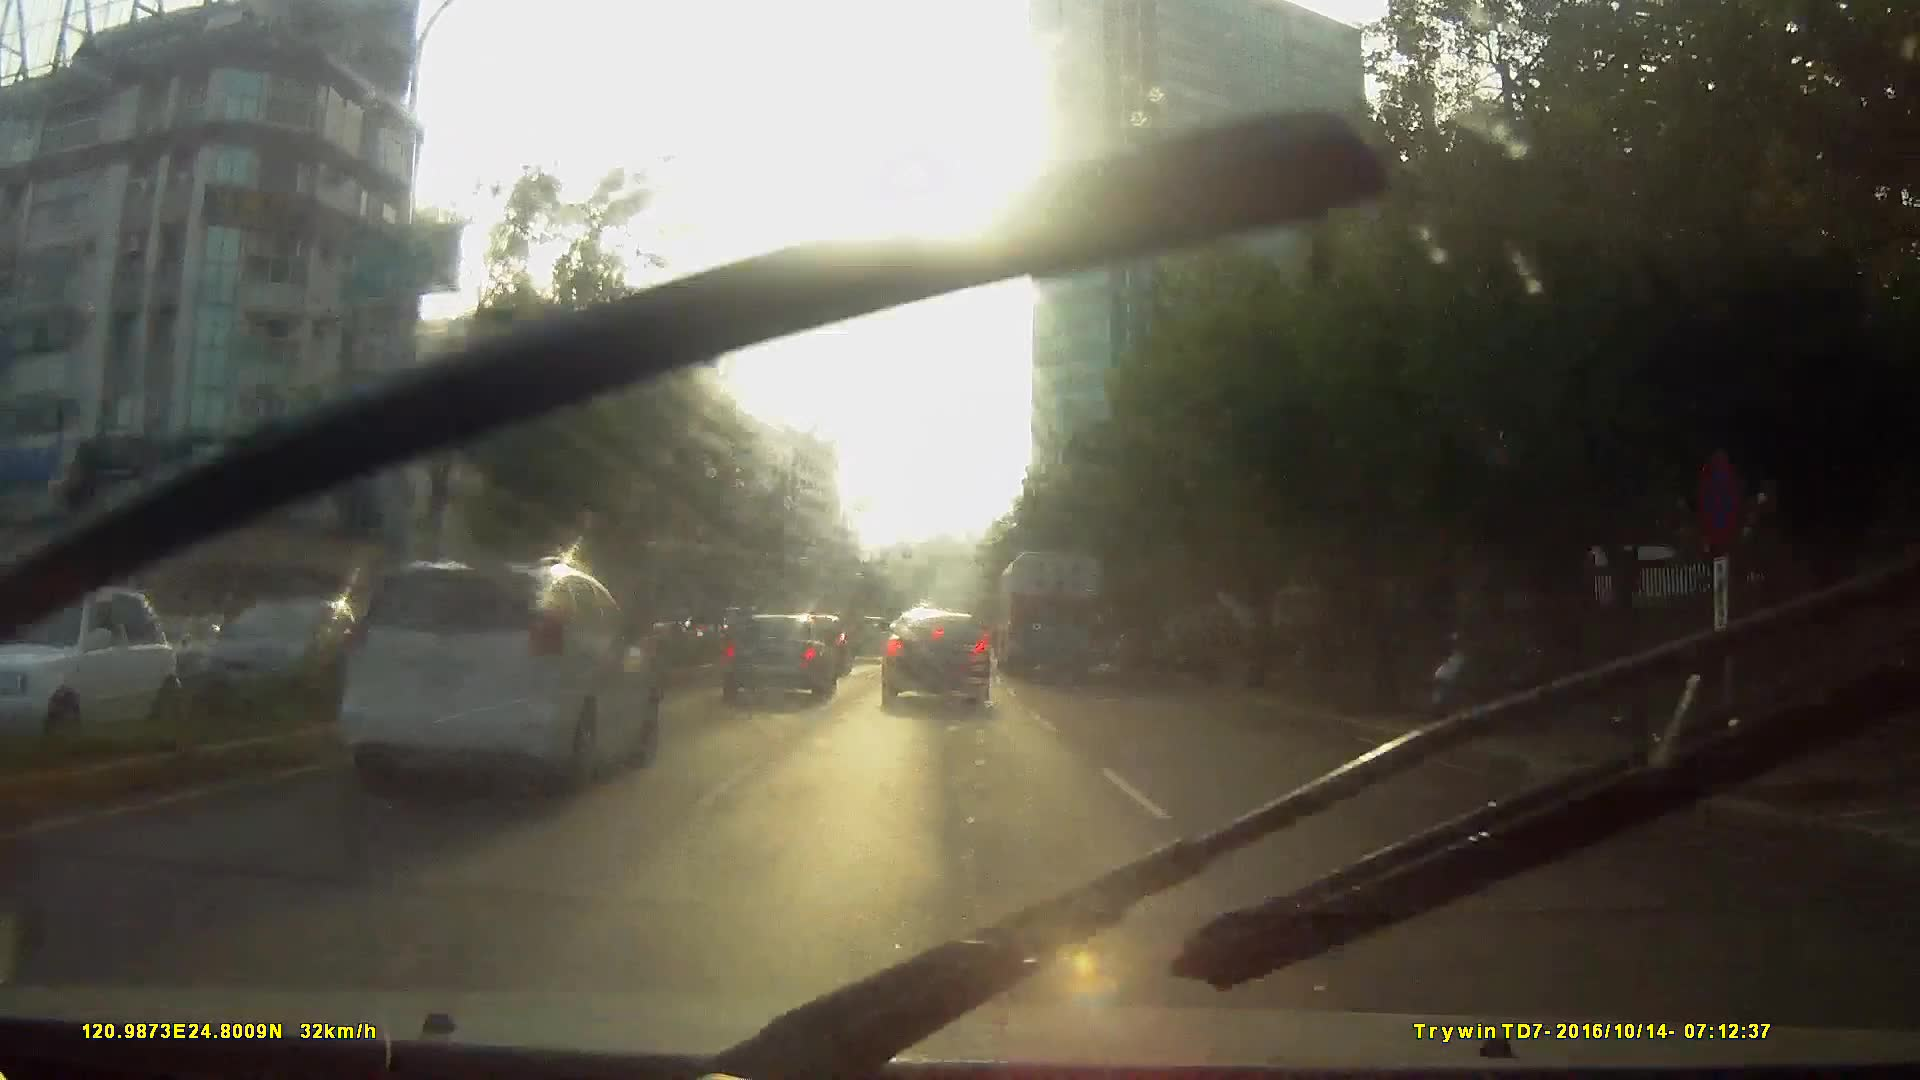vehicle: (251, 556, 684, 868), (331, 554, 658, 795), (3, 582, 218, 764), (195, 599, 375, 716), (1000, 549, 1109, 680), (877, 605, 992, 709), (717, 609, 837, 702), (845, 615, 891, 665)
